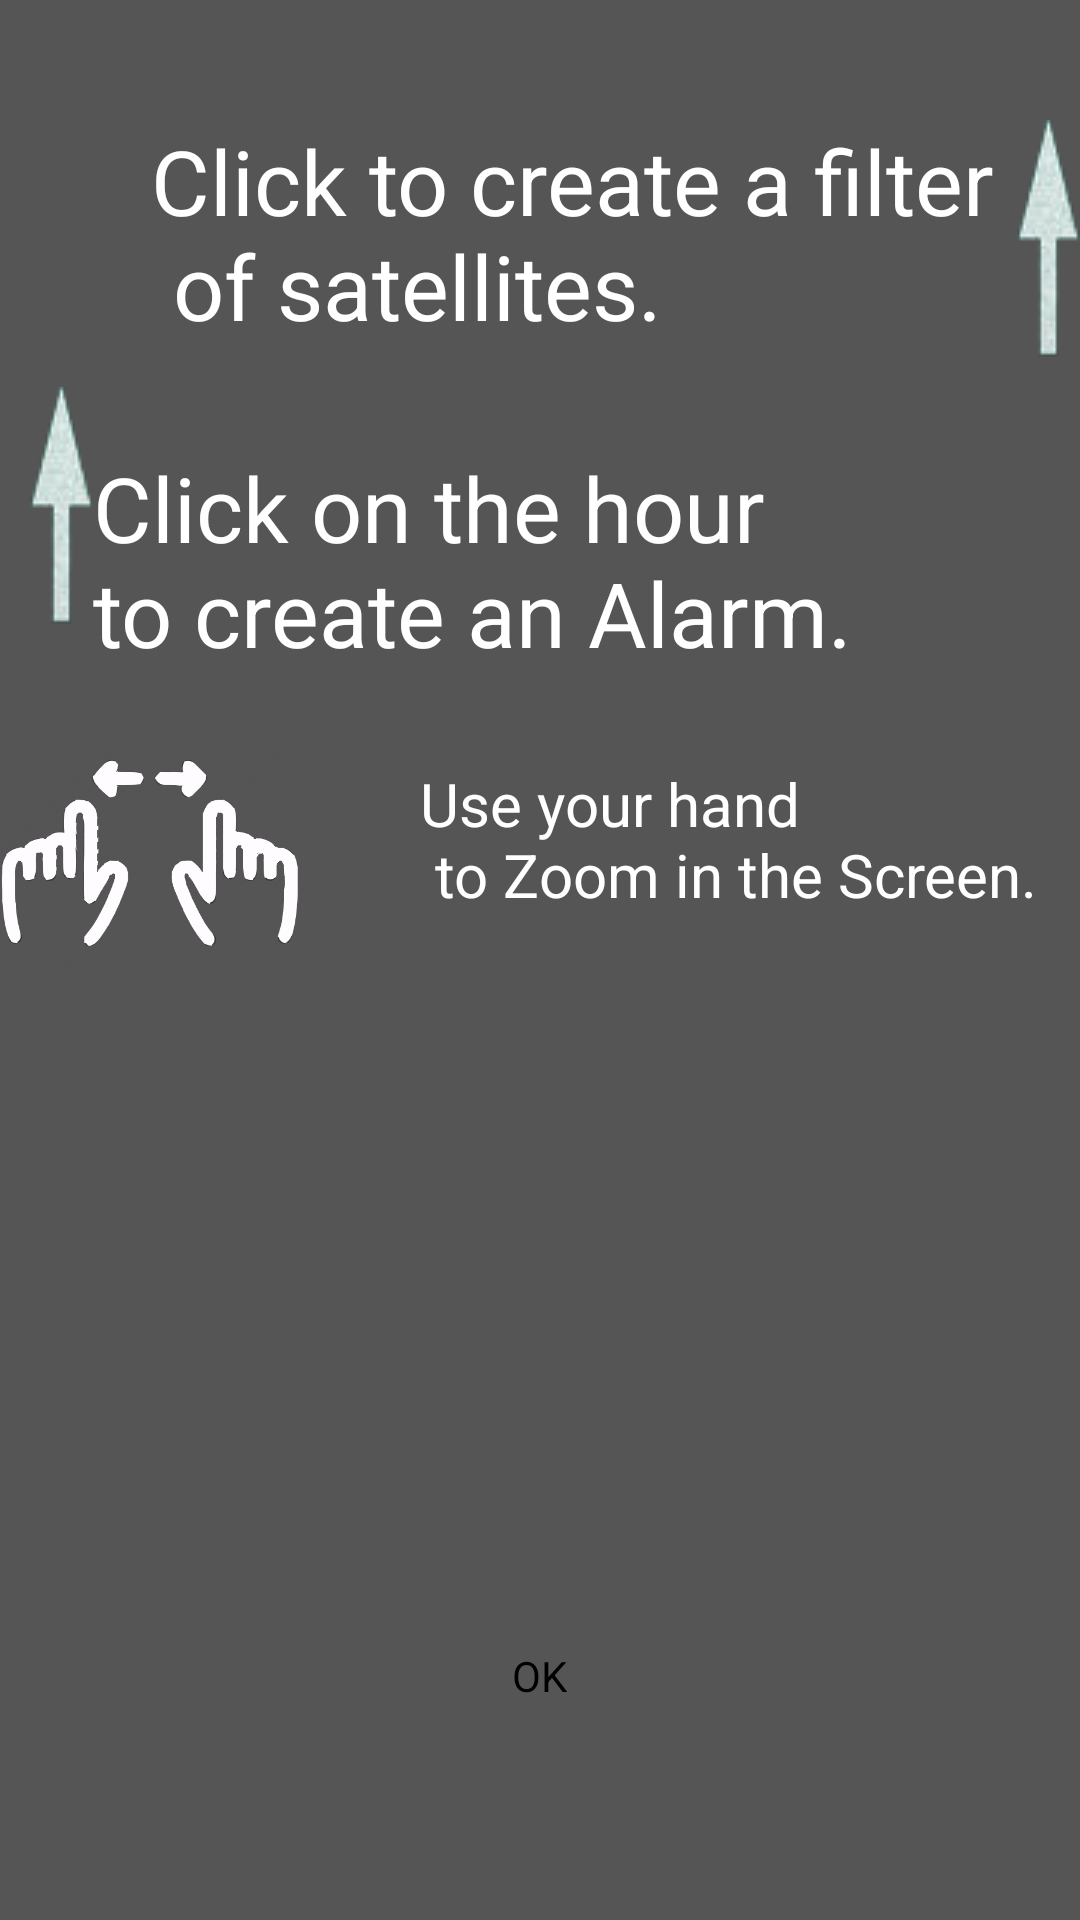

Named icons in this screenshot (1080w x 1920h) and their bounding boxes, bbox(x1, y1, x2, y2):
flecha: bbox(1019, 120, 1078, 355), bbox(32, 387, 91, 622)
manos: bbox(2, 760, 298, 946)
